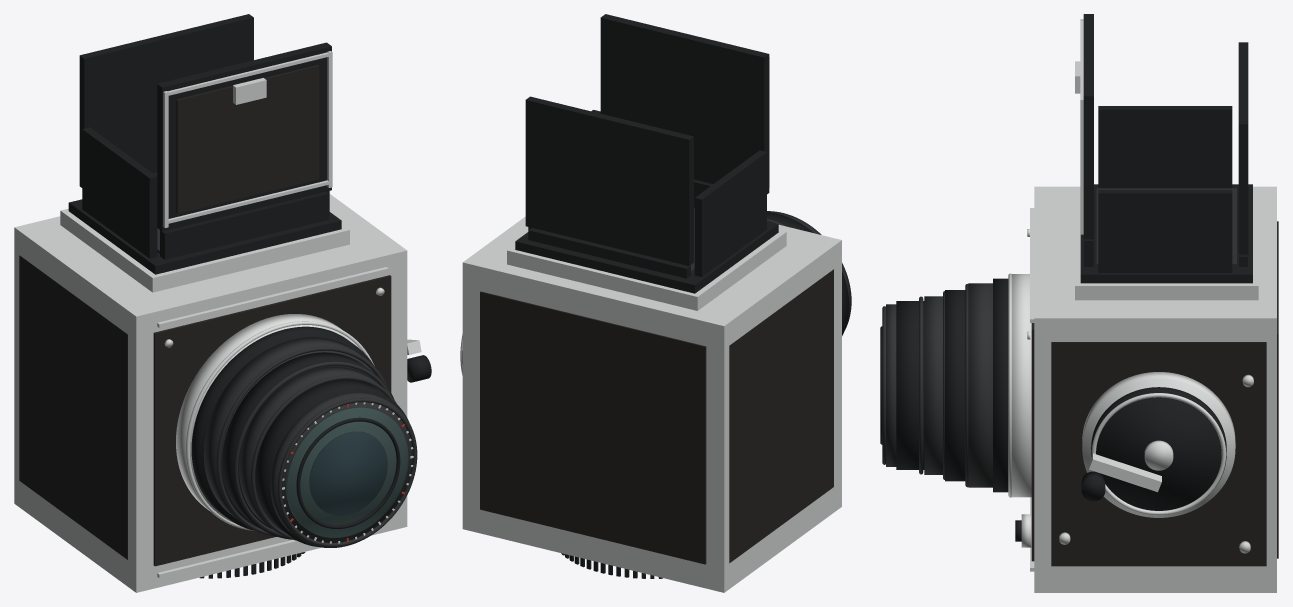
Rendered from camera.glb.
3 views of the same model, side by side, from view 1: azimuth 30°, elevation 25°; view 2: azimuth 150°, elevation 25°; view 3: azimuth 270°, elevation 25° (orthographic). The views are drawn at different scales.
Visible parts, largest first — view 1: Body | chrome chassis, Body | side leather left, Body | front face, Viewfinder | front leather insert, Viewfinder | rear folding panel, Viewfinder | front folding panel, Viewfinder | left folding panel, Lens | recessed glass, Viewfinder | chrome base, Lens | optical center, Viewfinder | fixed front hinge rail, Lens mount (+21 smaller); view 2: Body | rear leather, Body | chrome chassis, Body | side leather left, Viewfinder | rear folding panel, Viewfinder | front folding panel, Viewfinder | left folding panel, Viewfinder | chrome base, Viewfinder | black plinth, Viewfinder | fixed rear hinge rail, Lens front barrel; view 3: Body | side leather right, Body | chrome chassis, Viewfinder | right folding panel, Viewfinder | left folding panel, Winding dial | rotating disc, Focus ring, Lens mount, Viewfinder | chrome base, Lens front barrel, Winding dial | base, Shutter speed ring, Lens mount black (+18 smaller).
Part boxes in pixels (bbox=[...]): Body | chrome chassis: bbox=[14, 194, 407, 592]; Body | side leather left: bbox=[19, 255, 127, 559]; Body | front face: bbox=[153, 275, 391, 566]; Viewfinder | front leather insert: bbox=[176, 65, 319, 213]; Viewfinder | rear folding panel: bbox=[79, 14, 253, 187]; Viewfinder | front folding panel: bbox=[157, 42, 331, 231]; Viewfinder | left folding panel: bbox=[82, 127, 157, 258]; Lens | recessed glass: bbox=[286, 407, 408, 537]; Viewfinder | chrome base: bbox=[60, 208, 349, 292]; Lens | optical center: bbox=[309, 431, 387, 515]; Viewfinder | fixed front hinge rail: bbox=[160, 192, 328, 259]; Lens mount: bbox=[176, 314, 374, 530]; Body | rear leather: bbox=[480, 291, 706, 564]; Body | chrome chassis: bbox=[462, 216, 841, 592]; Body | side leather left: bbox=[729, 269, 833, 563]; Viewfinder | rear folding panel: bbox=[525, 96, 693, 265]; Viewfinder | front folding panel: bbox=[600, 14, 769, 194]; Viewfinder | left folding panel: bbox=[694, 150, 766, 276]; Viewfinder | chrome base: bbox=[507, 230, 786, 310]; Viewfinder | black plinth: bbox=[515, 207, 778, 293]; Viewfinder | fixed rear hinge rail: bbox=[528, 228, 690, 278]; Lens front barrel: bbox=[767, 212, 849, 335]; Body | side leather right: bbox=[1051, 342, 1266, 566]; Body | chrome chassis: bbox=[1034, 186, 1276, 592]; Viewfinder | right folding panel: bbox=[1098, 189, 1232, 272]; Viewfinder | left folding panel: bbox=[1098, 106, 1232, 188]; Winding dial | rotating disc: bbox=[1091, 387, 1226, 510]; Focus ring: bbox=[968, 283, 992, 487]; Lens mount: bbox=[1009, 274, 1031, 497]; Viewfinder | chrome base: bbox=[1075, 190, 1258, 300]; Lens front barrel: bbox=[896, 301, 924, 469]; Winding dial | base: bbox=[1082, 372, 1235, 517]; Shutter speed ring: bbox=[945, 290, 965, 481]; Lens mount black: bbox=[993, 278, 1008, 492].
Bounding box in the file's own units: 2.3 × 3.4 × 2.5.
